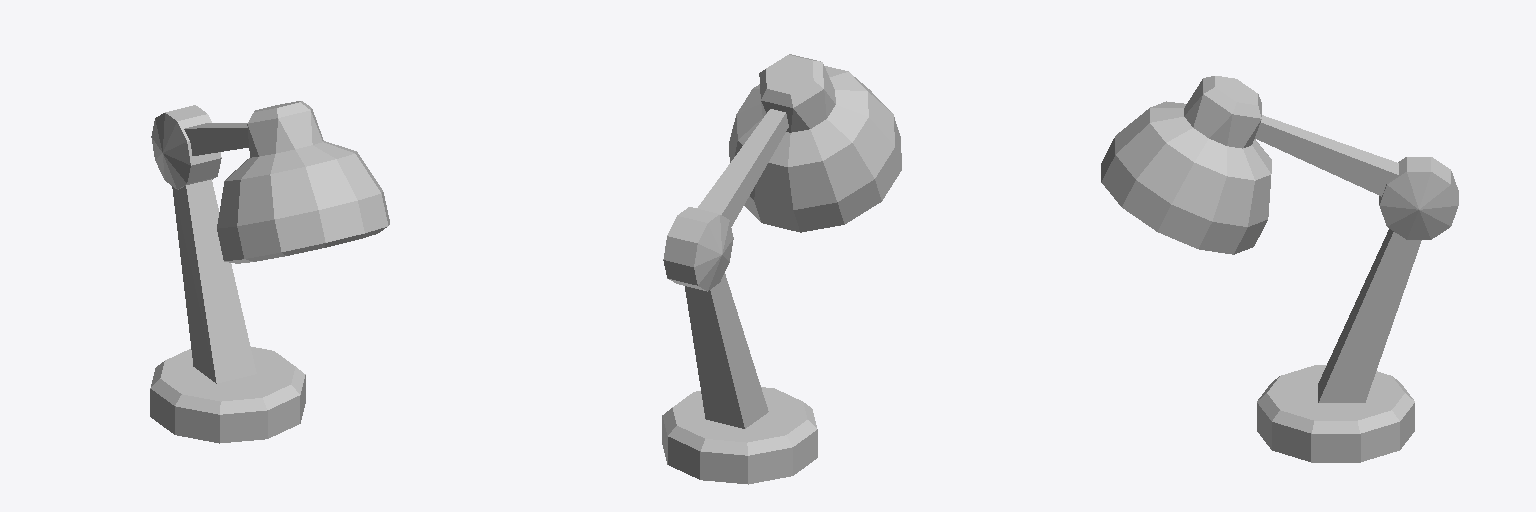
The model's file is lamp_desk.obj.
The picture shows the model from 3 angles: view 1: azimuth 30°, elevation 25°; view 2: azimuth 150°, elevation 25°; view 3: azimuth 270°, elevation 25°; orthographic projection.
Visible parts, largest first — view 1: lamp_desk_Cylinder.629; view 2: lamp_desk_Cylinder.629; view 3: lamp_desk_Cylinder.629.
Part boxes in pixels (x1,y1,x2,y2): lamp_desk_Cylinder.629: (150,101,389,443); lamp_desk_Cylinder.629: (662,54,901,484); lamp_desk_Cylinder.629: (1101,76,1458,462).
Bounding box in the file's own units: 0.518 × 1.18 × 1.1.